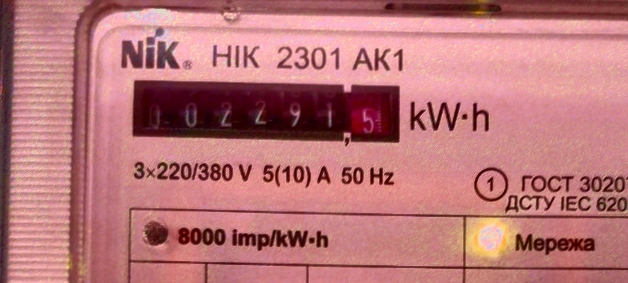0: (144, 99, 162, 128), (182, 99, 198, 128)
1: (321, 97, 335, 131)
2: (217, 98, 233, 128), (252, 96, 266, 125)
5: (359, 104, 375, 134)
9: (286, 98, 302, 128)
screen: (127, 73, 404, 150)
